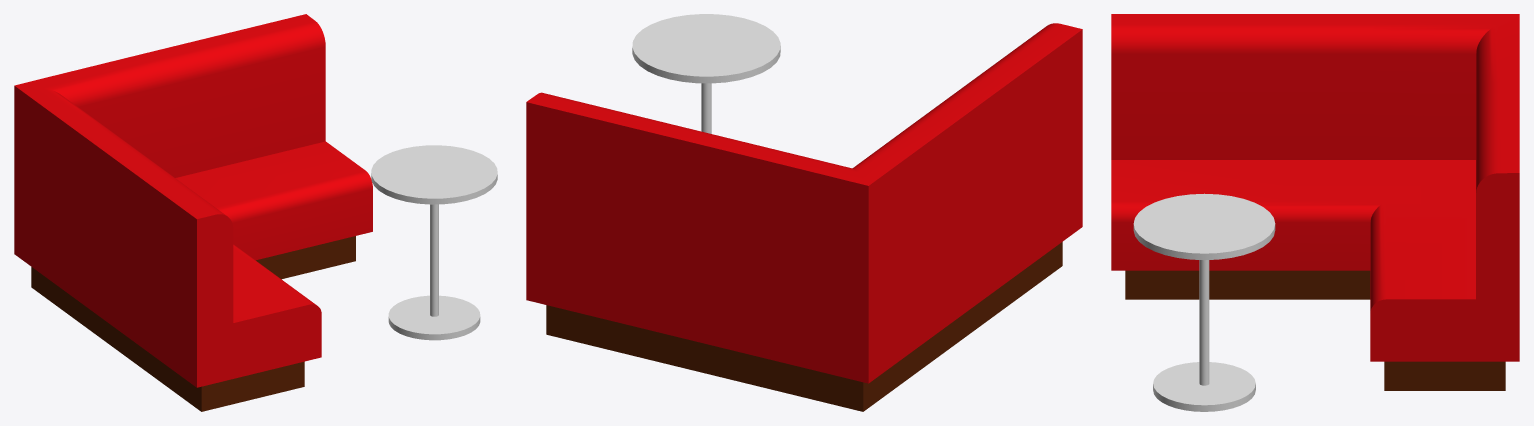
File: Table.fbx
3 views of the same model, side by side, from view 1: azimuth 30°, elevation 25°; view 2: azimuth 150°, elevation 25°; view 3: azimuth 270°, elevation 25° (orthographic). The views are drawn at different scales.
Parts seen in each view (by area): view 1: Sofa, Table, Sofa_bottom; view 2: Sofa, Sofa_bottom, Table; view 3: Sofa, Table, Sofa_bottom.
Part boxes in pixels (x1,y1,x2,y2): Sofa: [14, 14, 372, 387]; Table: [371, 145, 497, 340]; Sofa_bottom: [31, 236, 355, 411]; Sofa: [526, 23, 1082, 383]; Sofa_bottom: [546, 242, 1062, 411]; Table: [632, 14, 780, 133]; Sofa: [1111, 14, 1519, 361]; Table: [1133, 193, 1275, 411]; Sofa_bottom: [1125, 270, 1505, 390].
Size of the model in its own units: 1983 by 1138 by 1878.
